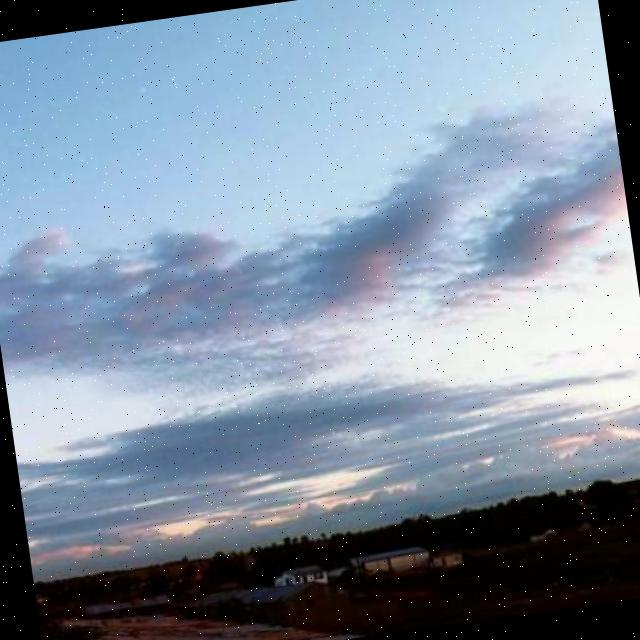Sc: (1, 82, 640, 438)
